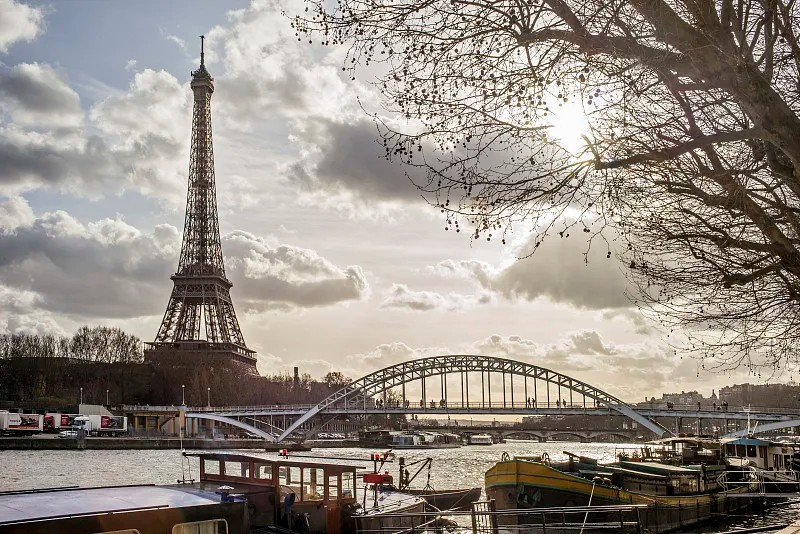Eiffel: (144, 34, 259, 375)
